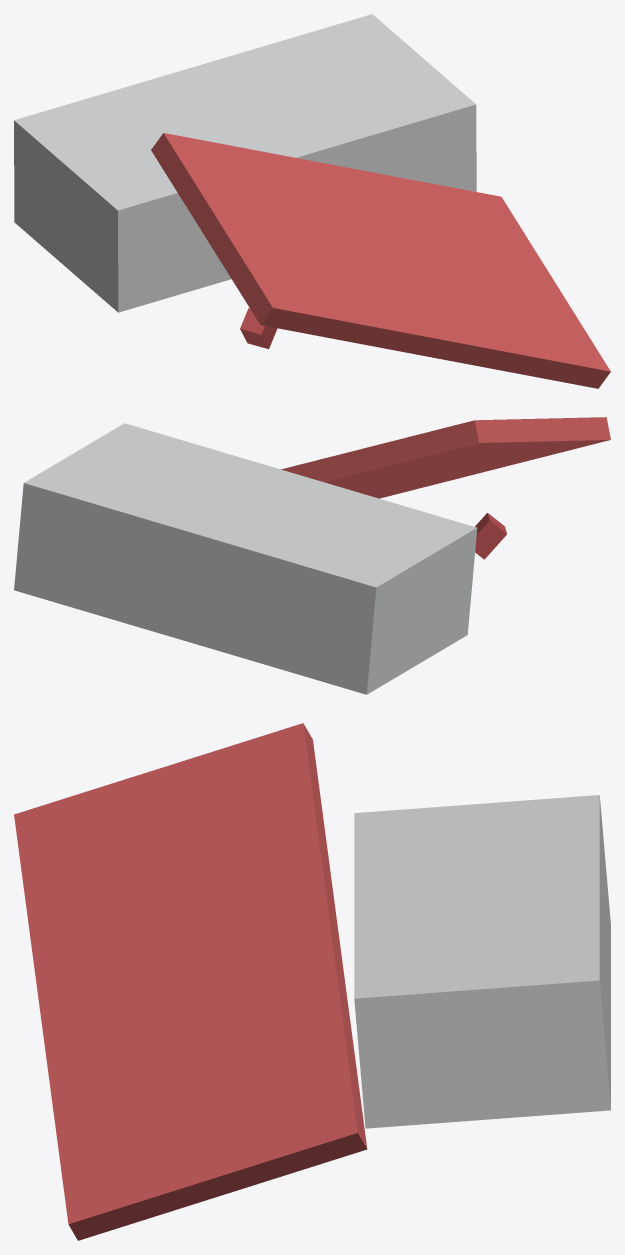
File: gas-station-wreck.glb
3 renders of one model, top to bottom at view 1: azimuth 30°, elevation 25°; view 2: azimuth 150°, elevation 25°; view 3: azimuth 270°, elevation 25°, orthographic. The views are drawn at different scales.
Parts seen in each view (by area): view 1: Root; view 2: Root; view 3: Root.
Part boxes in pixels (x1=…): Root: x1=14, y1=14, x2=610, y2=388; Root: x1=14, y1=417, x2=610, y2=694; Root: x1=14, y1=723, x2=610, y2=1240.
Size of the model in its own units: 15.05 by 10.06 by 16.97.
